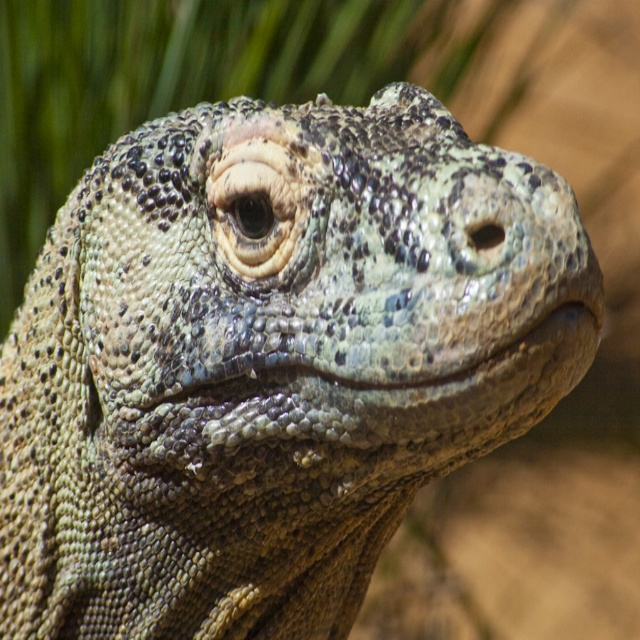Lizard: (13, 76, 620, 636)
